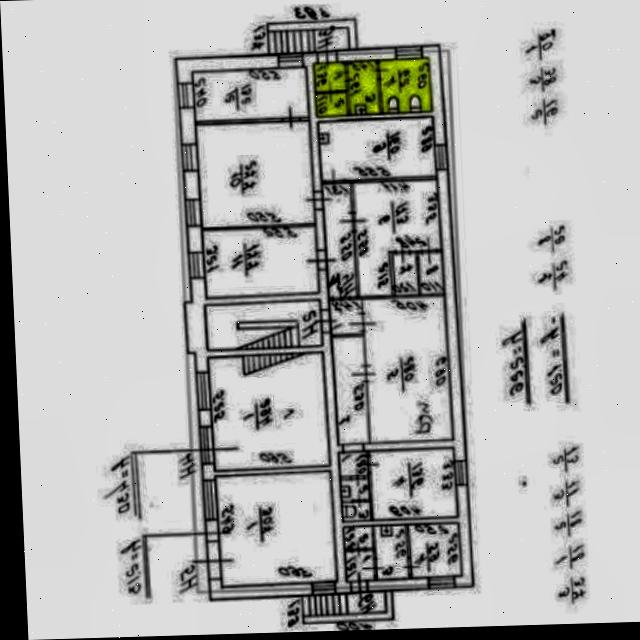room: (208, 352, 329, 470), (216, 470, 336, 587), (362, 294, 454, 444), (196, 117, 316, 230), (353, 178, 442, 296), (203, 225, 319, 296), (319, 116, 437, 180), (370, 449, 457, 518), (205, 299, 323, 349), (194, 68, 309, 119), (333, 335, 370, 445), (324, 183, 356, 297), (409, 522, 462, 577), (380, 57, 432, 113), (376, 524, 409, 578), (303, 592, 387, 613), (269, 29, 350, 50), (348, 60, 379, 114), (330, 298, 363, 334), (420, 252, 444, 293), (394, 253, 418, 293), (346, 549, 374, 581), (314, 63, 346, 89), (339, 452, 368, 475), (317, 92, 346, 115), (343, 525, 372, 547), (341, 478, 369, 499), (342, 501, 370, 520)
